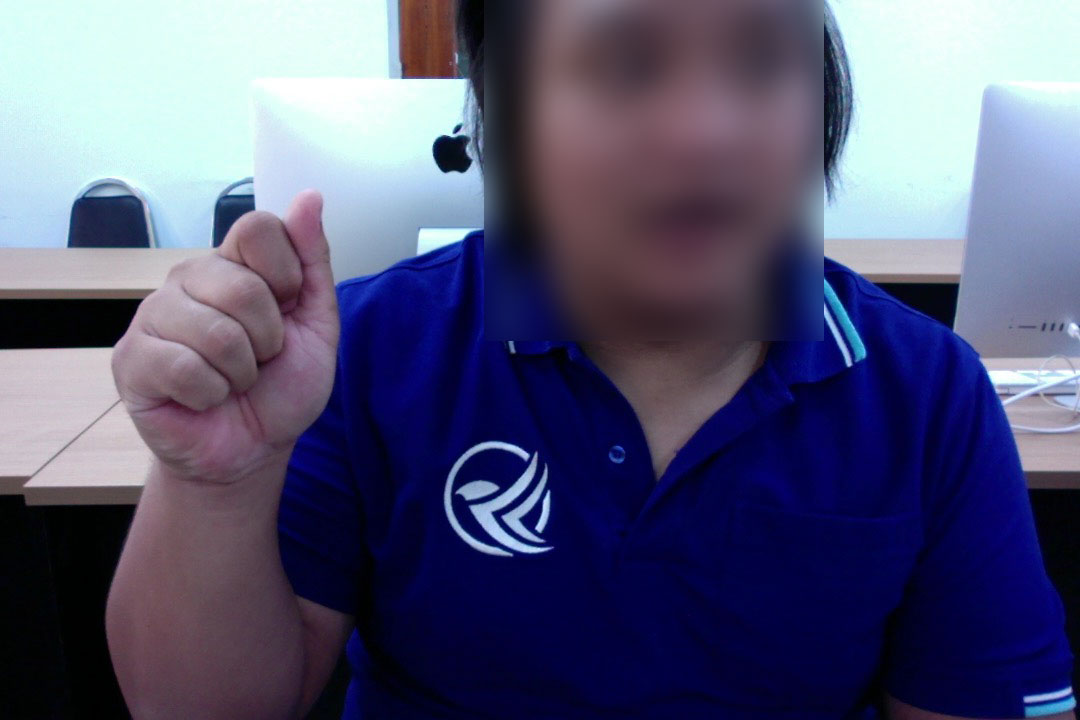or: (96, 179, 360, 504)
